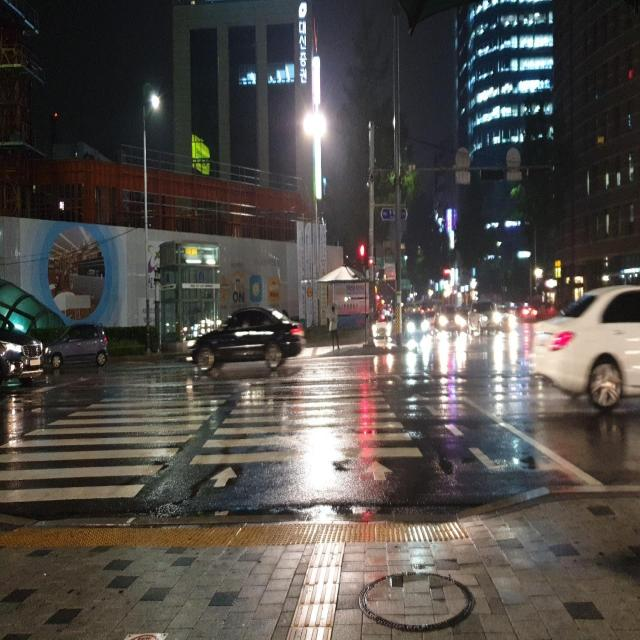빨간불: (359, 241, 367, 279)
횡단보도: (0, 354, 422, 505)
